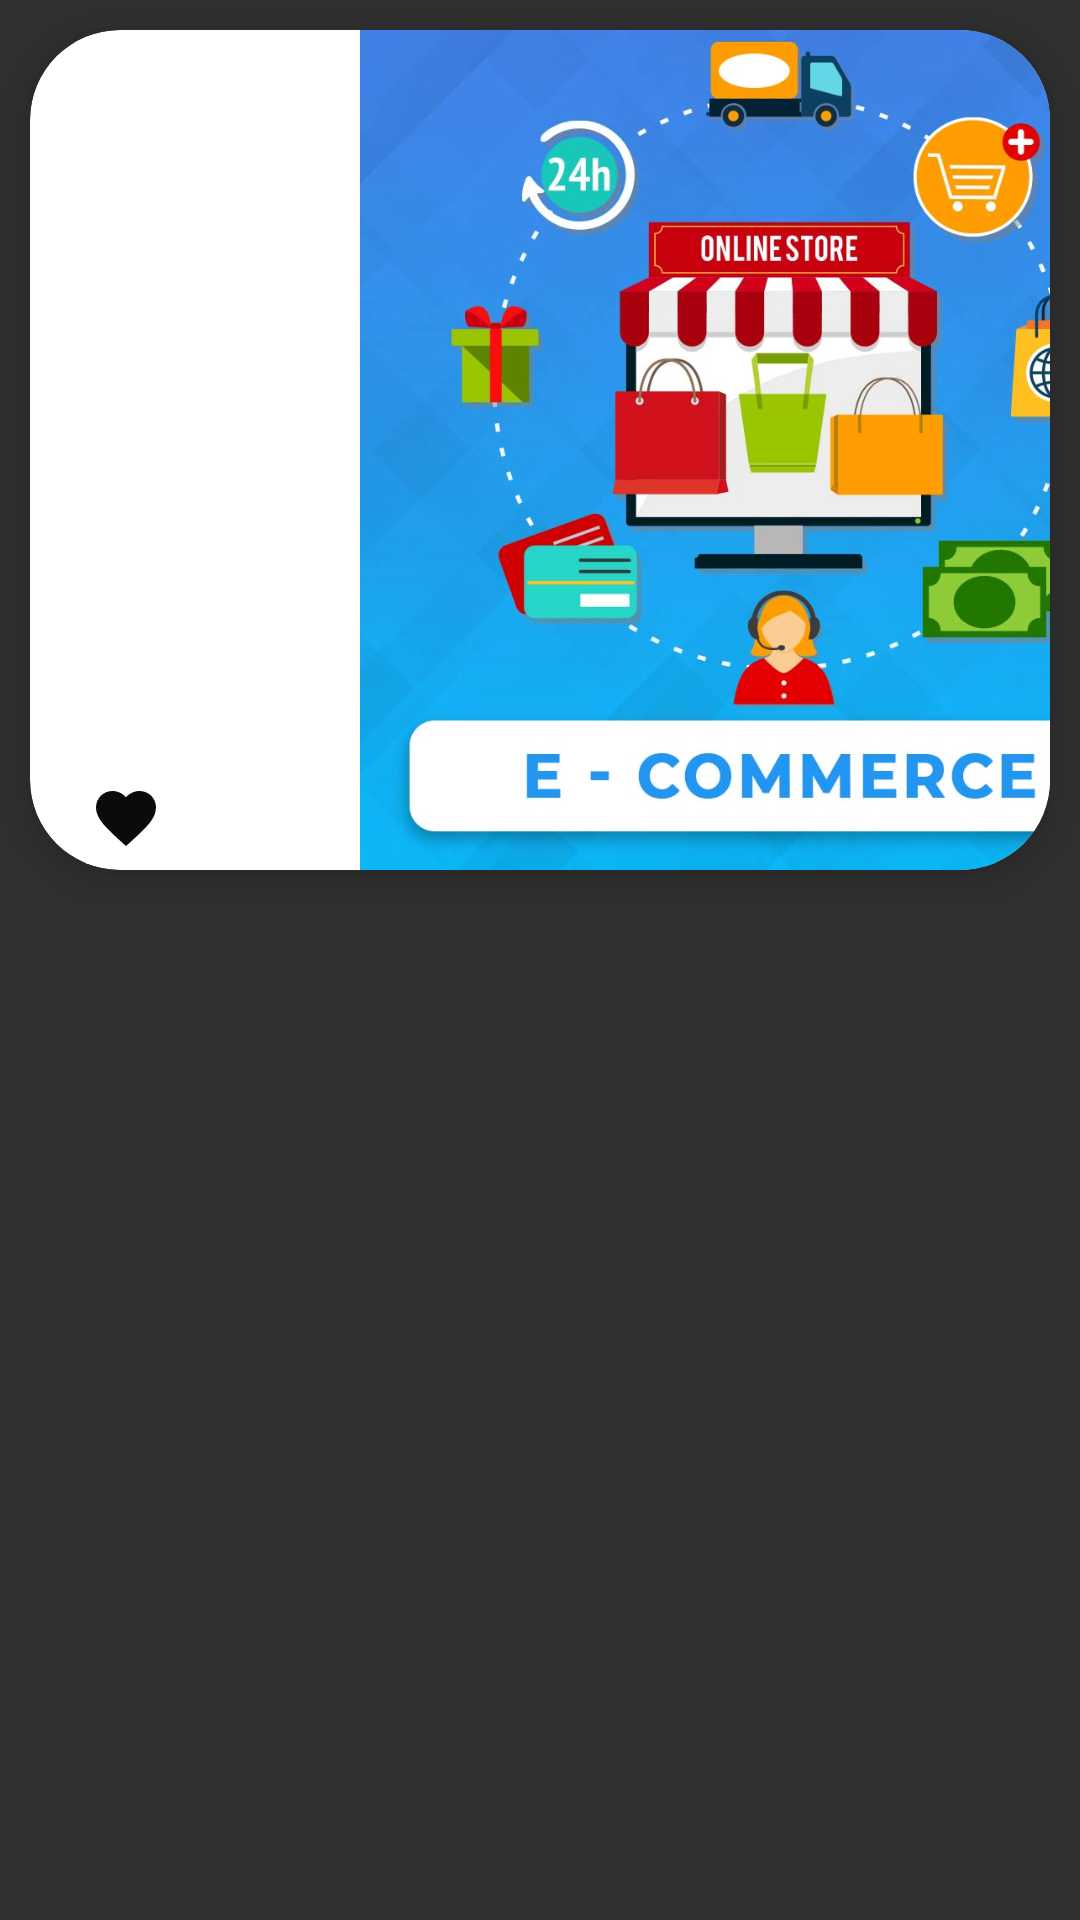

Icon click points for this 1080x1920 phone screenshot, format point (x, y):
favorite: point (126, 817)
